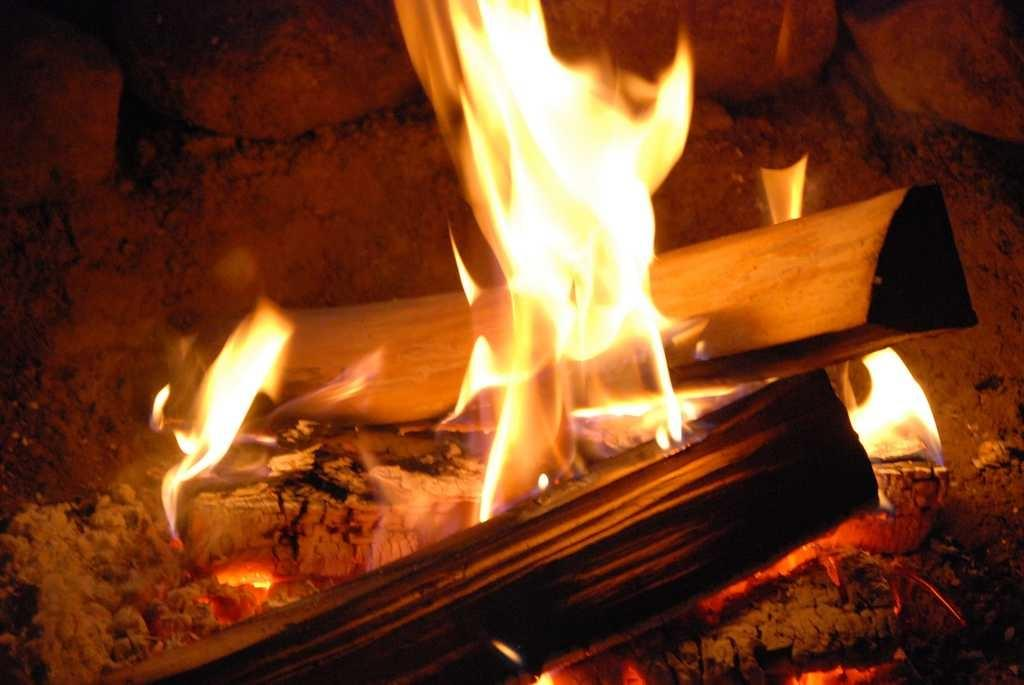fire: (507, 53, 643, 358), (195, 352, 267, 433), (868, 392, 928, 460)
